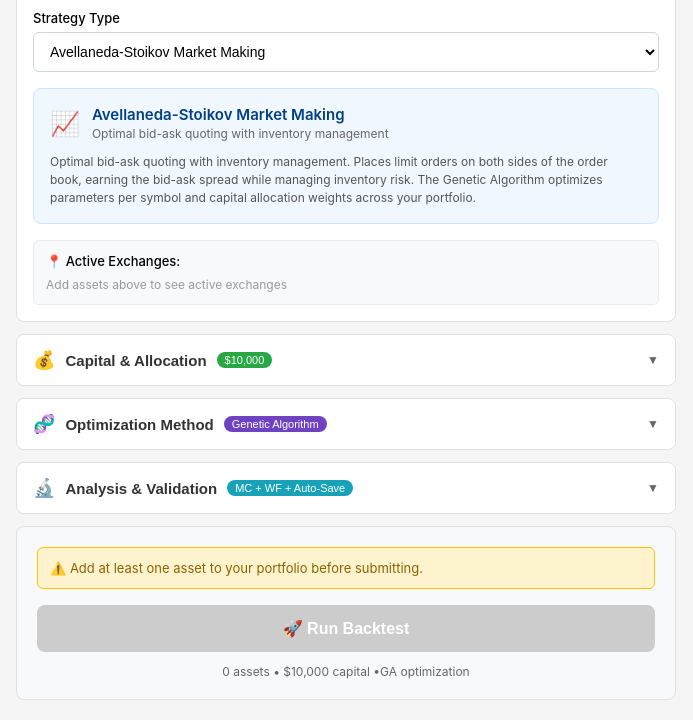
Scenario: BacktestForm › can expand optimization section to see settings
(page scrolled)
Note: Click to expand the optimization section
Click the text "Optimization Method": (140,424) x1=66 y1=416 x2=214 y2=432
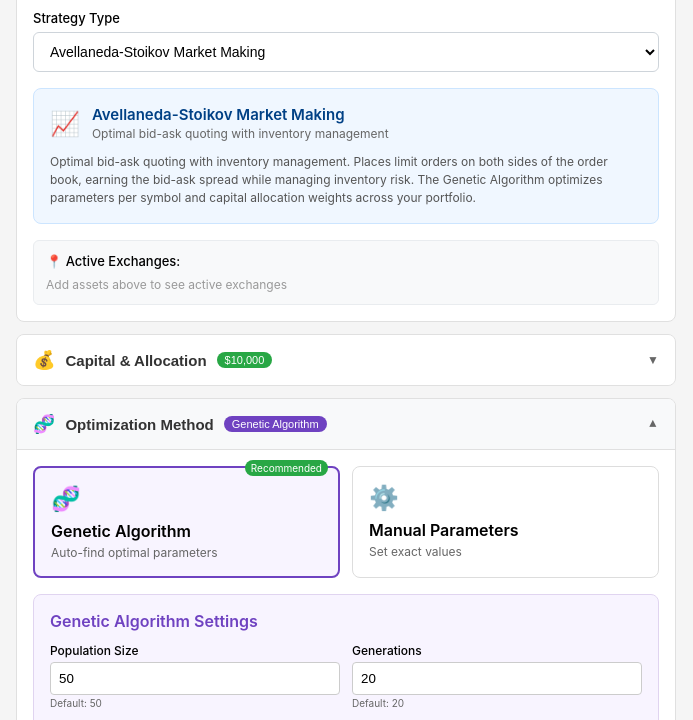
Check: the text "Population Size" is shown, box x1=50 y1=643 x2=138 y2=658
Check: the text "Generations" is shown, box x1=352 y1=643 x2=422 y2=658
